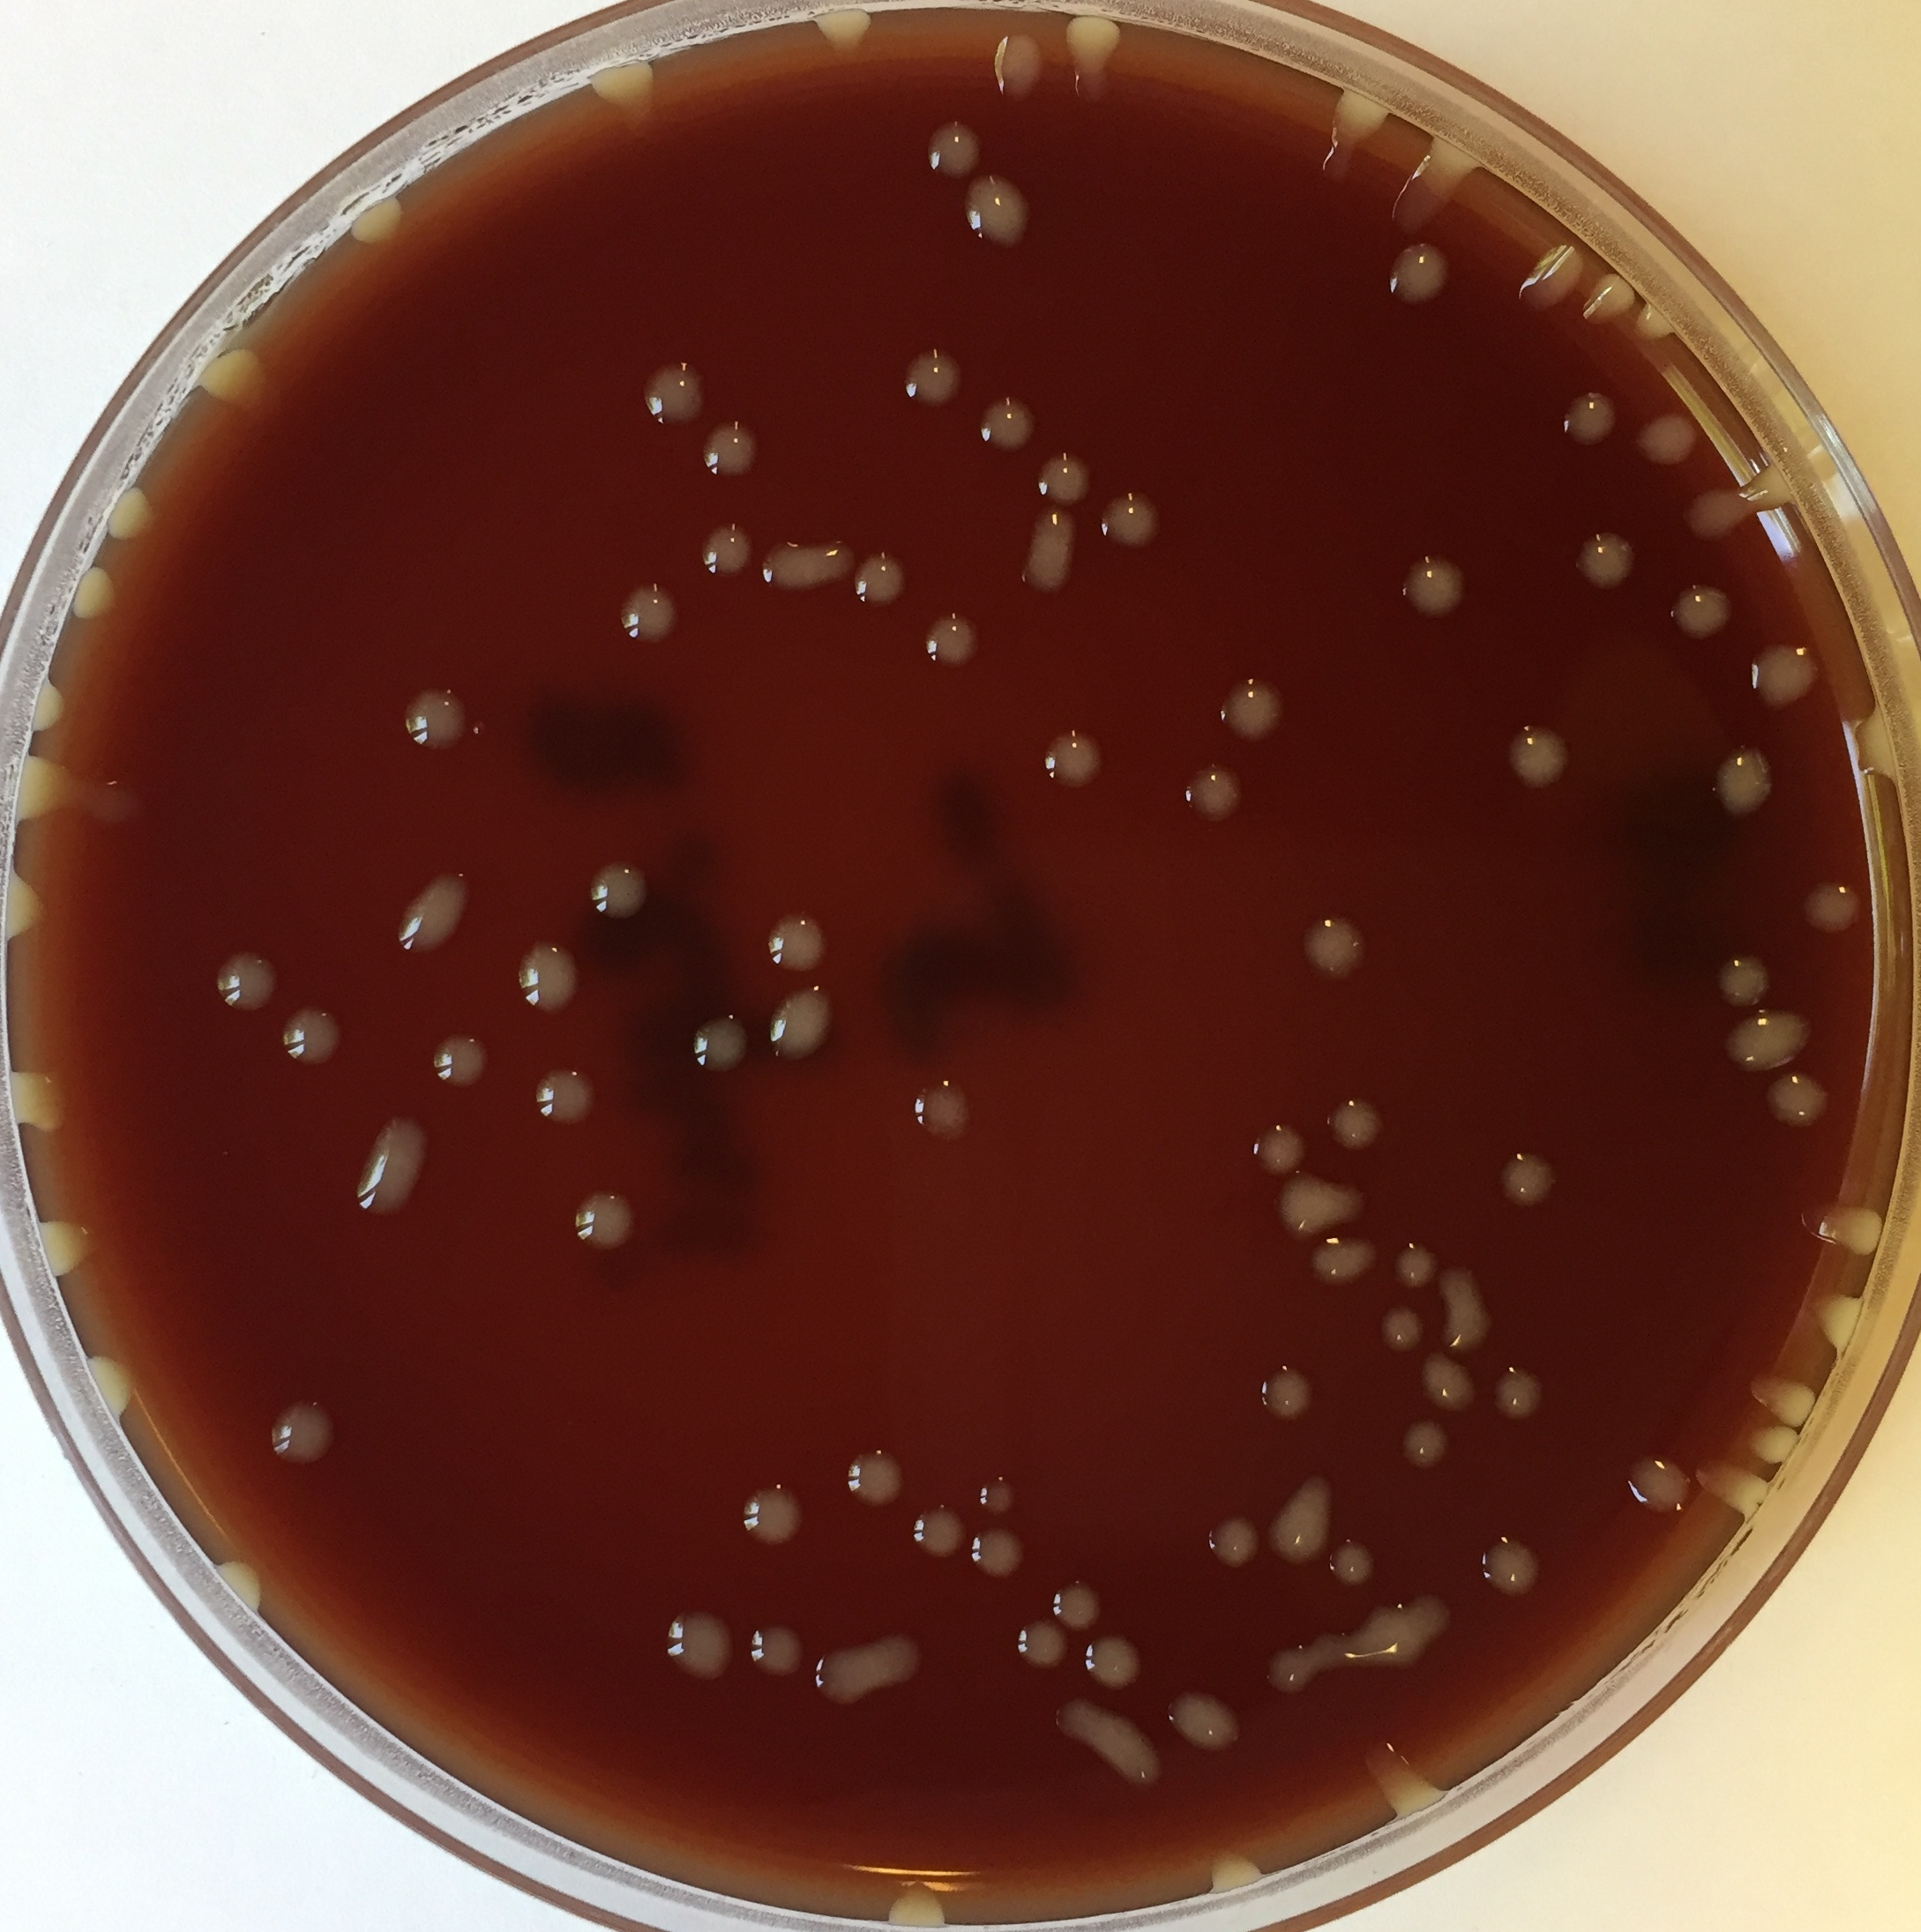sp19: (1054, 1689, 1168, 1791), (813, 1621, 927, 1707), (1399, 127, 1476, 237), (352, 1113, 429, 1218), (1356, 1742, 1451, 1827), (1265, 1468, 1344, 1566), (1267, 1167, 1370, 1238), (398, 867, 470, 958), (1842, 694, 1912, 788), (1321, 88, 1386, 188), (1427, 1262, 1497, 1354), (1722, 1007, 1817, 1074), (765, 983, 836, 1071), (763, 533, 860, 596), (1059, 14, 1126, 105), (584, 60, 667, 134), (2, 1060, 76, 1141), (1348, 1598, 1413, 1689), (962, 171, 1031, 257), (7, 751, 70, 842), (76, 749, 142, 835), (1689, 1452, 1766, 1524), (1166, 1686, 1247, 1754), (1747, 640, 1822, 712), (514, 939, 584, 1016), (663, 1610, 737, 1682), (399, 684, 471, 758), (1296, 912, 1370, 983), (1715, 735, 1777, 819), (1518, 237, 1587, 313), (1800, 1195, 1886, 1255), (1381, 241, 1457, 308), (197, 348, 274, 413), (911, 1072, 978, 1146), (267, 1398, 341, 1464), (1022, 506, 1077, 596), (1217, 677, 1288, 745), (637, 360, 709, 427), (528, 1065, 600, 1132), (1400, 550, 1467, 621), (899, 343, 969, 410), (1506, 719, 1571, 791), (1743, 1369, 1819, 1431), (1759, 1064, 1833, 1125), (586, 858, 653, 925), (1483, 1531, 1548, 1600), (1571, 527, 1640, 592), (616, 578, 681, 647), (1624, 1452, 1694, 1515), (1307, 1229, 1381, 1289), (839, 1447, 906, 1512), (920, 608, 987, 673), (81, 1352, 144, 1420), (990, 30, 1047, 105), (1256, 1361, 1321, 1426), (1411, 1348, 1476, 1413), (1098, 487, 1163, 552), (1497, 1148, 1564, 1211), (976, 390, 1040, 457), (572, 1185, 639, 1248), (688, 1011, 755, 1074), (1668, 577, 1736, 638), (763, 912, 832, 974), (741, 1485, 806, 1549), (215, 951, 278, 1016), (427, 1032, 494, 1093), (39, 1213, 97, 1283), (1082, 1630, 1145, 1693), (1180, 761, 1245, 823), (1636, 410, 1701, 471), (702, 418, 767, 480), (1043, 728, 1108, 789), (746, 1616, 806, 1682), (280, 1007, 347, 1067), (208, 1556, 269, 1619), (1321, 1092, 1386, 1151), (1800, 1292, 1865, 1352), (1397, 1582, 1457, 1647), (350, 195, 419, 251), (804, 7, 880, 58), (1800, 879, 1861, 941), (1712, 953, 1775, 1013), (922, 120, 987, 178), (1012, 1614, 1073, 1674), (1560, 392, 1620, 454), (1678, 482, 1740, 541), (1736, 462, 1801, 519), (883, 1879, 952, 1932), (1207, 1512, 1265, 1573), (104, 482, 162, 543), (853, 545, 909, 608), (1261, 1642, 1316, 1707), (909, 1501, 968, 1561), (1247, 1122, 1305, 1181), (70, 566, 128, 626), (1399, 1412, 1455, 1471), (1492, 1362, 1548, 1422), (700, 519, 756, 578), (19, 677, 72, 740), (1583, 269, 1636, 330), (971, 1526, 1027, 1582), (1376, 1299, 1427, 1361), (1031, 455, 1094, 505), (1205, 1848, 1274, 1892), (1743, 1422, 1808, 1468), (1050, 1579, 1103, 1635), (1326, 1538, 1386, 1584), (1393, 1241, 1443, 1290), (1634, 304, 1684, 343), (980, 1471, 1020, 1515)
